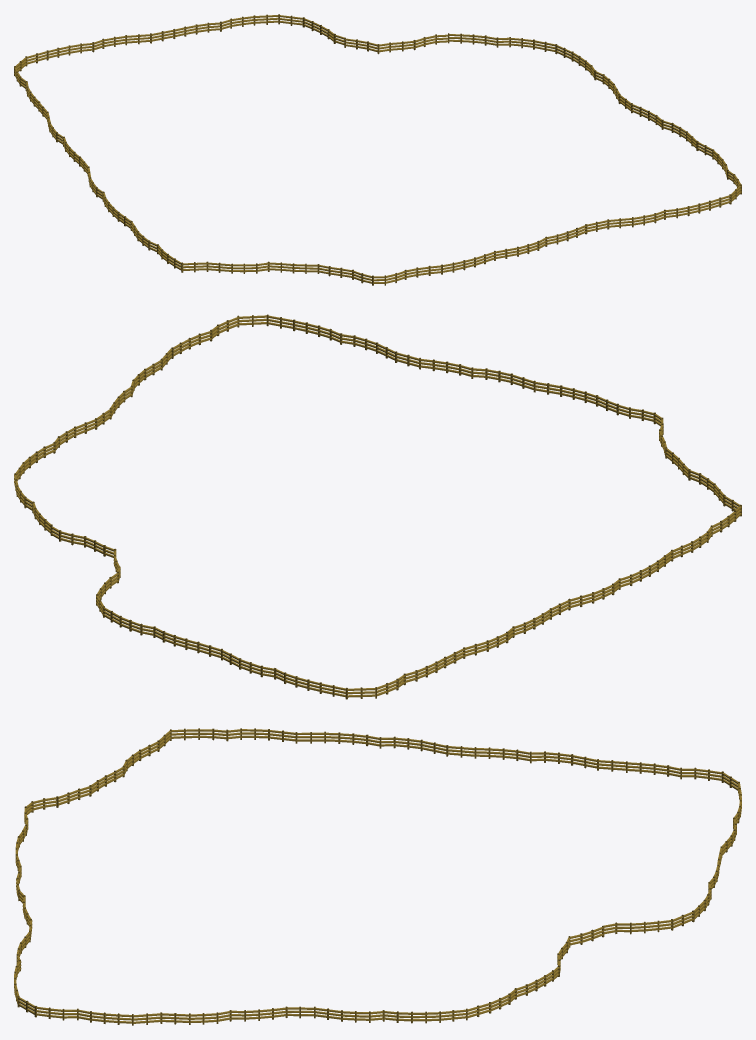
Rendered from fence.fbx.
3 renders of one model, top to bottom at view 1: azimuth 30°, elevation 25°; view 2: azimuth 150°, elevation 25°; view 3: azimuth 270°, elevation 25°, orthographic. The views are drawn at different scales.
Parts seen in each view (by area): view 1: fence; view 2: fence; view 3: fence.
Boxes of the visible parts, x1,y1,x2,y2 form: fence: (14, 14, 741, 285); fence: (14, 314, 741, 699); fence: (14, 728, 741, 1025).
Size of the model in its own units: 6992 by 133 by 7497.
